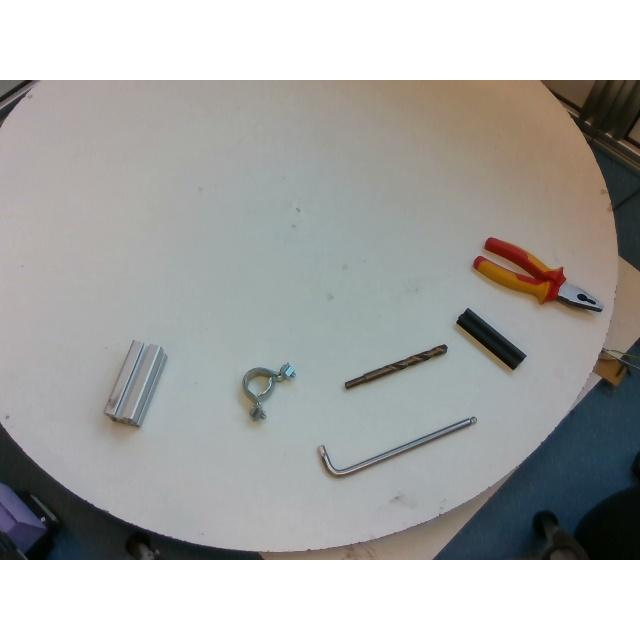AllenKey: (318, 416, 476, 476)
Drill: (344, 344, 446, 388)
F20_20_B: (456, 307, 524, 368)
Housing: (241, 362, 295, 420)
S40_40_G: (104, 340, 166, 426)
